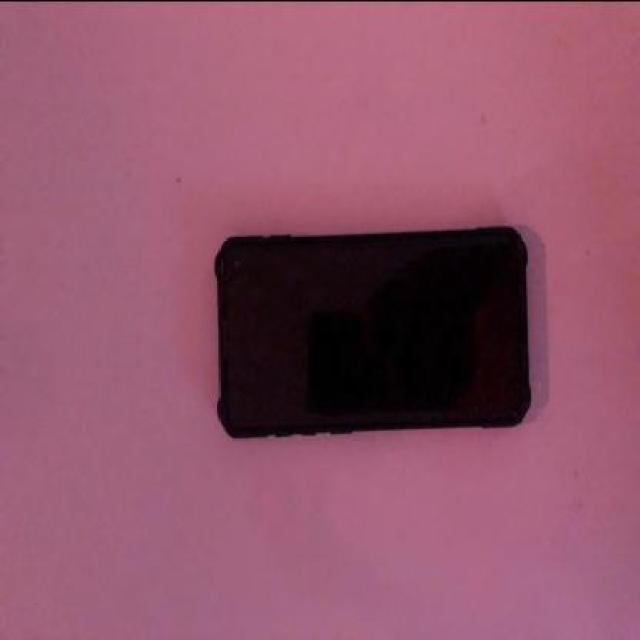Smartphone: (216, 221, 530, 436)
